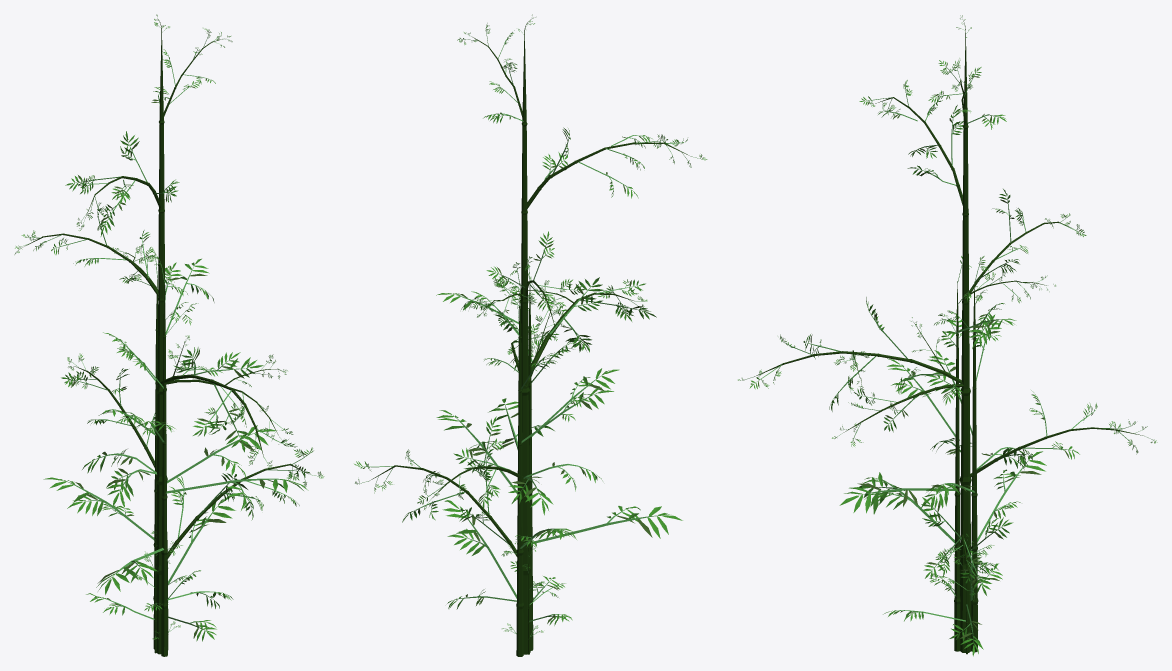
3 views of the same model, side by side, from view 1: azimuth 30°, elevation 25°; view 2: azimuth 150°, elevation 25°; view 3: azimuth 270°, elevation 25° (orthographic).
Visible parts, largest first — view 1: Big bamboo.012_19, Big bamboo_3, Bamboo main trunk_2, Big bamboo.004_7, Big bamboo.007_10, Big bamboo.006_9, Big bamboo.001_4, Big bamboo.005_8, Big bamboo.014_21, Big bamboo.013_20, Big bamboo.010_17, Big bamboo.003_6 (+1 smaller); view 2: Big bamboo_3, Bamboo main trunk_2, Big bamboo.012_19, Big bamboo.004_7, Big bamboo.007_10, Big bamboo.006_9, Big bamboo.001_4, Big bamboo.005_8, Big bamboo.014_21, Big bamboo.003_6, leaf_11, Big bamboo.013_20; view 3: Bamboo main trunk_2, Big bamboo.012_19, Big bamboo_3, Big bamboo.007_10, Big bamboo.004_7, Big bamboo.006_9, Big bamboo.001_4, Big bamboo.010_17, Big bamboo.005_8, Big bamboo.013_20.
Boxes of the visible parts, x1,y1,x2,y2 form: Big bamboo.012_19: [96, 255, 308, 656]; Big bamboo_3: [43, 247, 277, 649]; Bamboo main trunk_2: [155, 33, 168, 654]; Big bamboo.004_7: [157, 347, 297, 467]; Big bamboo.007_10: [167, 447, 324, 559]; Big bamboo.006_9: [65, 131, 179, 236]; Big bamboo.001_4: [61, 353, 156, 470]; Big bamboo.005_8: [14, 202, 159, 297]; Big bamboo.014_21: [86, 501, 182, 653]; Big bamboo.013_20: [151, 531, 233, 649]; Big bamboo.010_17: [166, 366, 293, 444]; Big bamboo.003_6: [162, 28, 232, 117]; Big bamboo_3: [436, 262, 613, 656]; Bamboo main trunk_2: [520, 35, 530, 654]; Big bamboo.012_19: [436, 256, 682, 650]; Big bamboo.004_7: [494, 277, 656, 386]; Big bamboo.007_10: [354, 445, 517, 556]; Big bamboo.006_9: [526, 127, 707, 209]; Big bamboo.001_4: [417, 416, 523, 509]; Big bamboo.005_8: [486, 231, 585, 340]; Big bamboo.014_21: [515, 535, 572, 654]; Big bamboo.003_6: [457, 23, 522, 117]; leaf_11: [508, 476, 553, 515]; Big bamboo.013_20: [447, 541, 559, 633]; Bamboo main trunk_2: [959, 38, 971, 652]; Big bamboo.012_19: [839, 256, 1016, 651]; Big bamboo_3: [920, 256, 1046, 652]; Big bamboo.007_10: [921, 497, 1013, 600]; Big bamboo.004_7: [738, 297, 962, 411]; Big bamboo.006_9: [859, 80, 963, 205]; Big bamboo.001_4: [969, 390, 1157, 477]; Big bamboo.010_17: [832, 383, 963, 446]; Big bamboo.005_8: [969, 189, 1086, 293]; Big bamboo.013_20: [883, 534, 994, 656].
Bounding box in the file's own units: 2.04 × 4.16 × 2.51.
